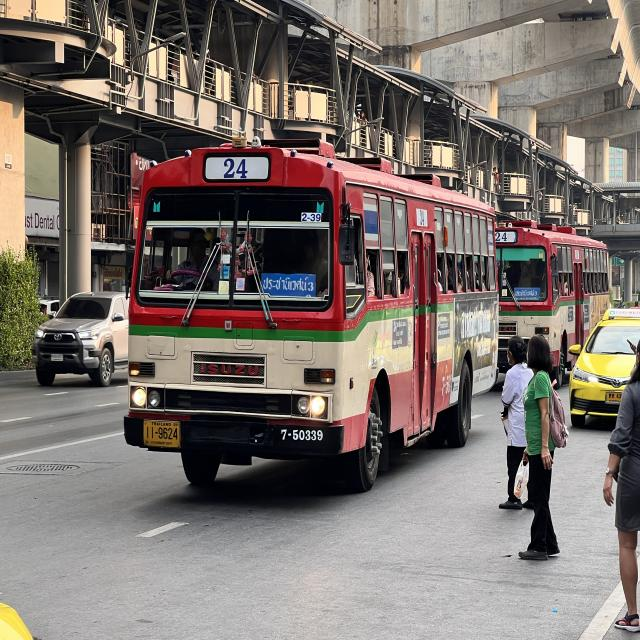BMTA-bus: (121, 125, 501, 503), (496, 222, 610, 386)
Bus-Line-Number: (202, 155, 272, 182)
Destination-Sign-Normal: (260, 273, 317, 299)
